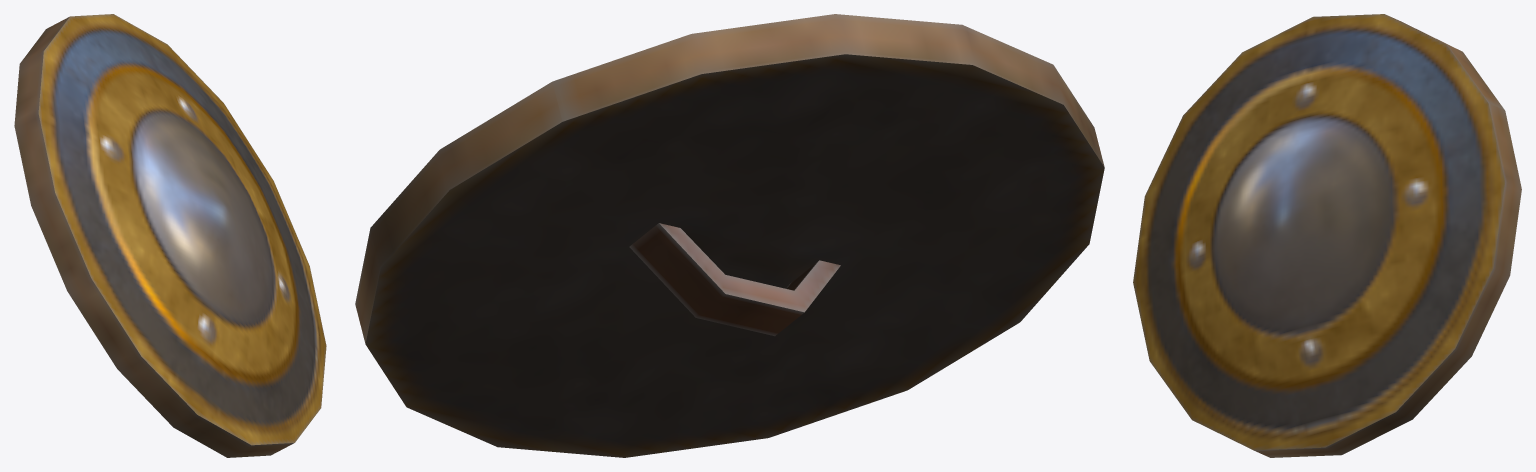
File: shield003.fbx
The picture shows the model from 3 angles, left to right: view 1: azimuth 30°, elevation 25°; view 2: azimuth 150°, elevation 25°; view 3: azimuth 270°, elevation 25°; orthographic projection. The views are drawn at different scales.
Visible parts, largest first — view 1: shield003; view 2: shield003; view 3: shield003.
Part boxes in pixels (box(x1,y1,x2,y2)): shield003: box(14, 14, 326, 457); shield003: box(355, 14, 1104, 457); shield003: box(1133, 14, 1521, 457).
Bounding box in the file's own units: 0.4035 × 0.4094 × 0.4073.
